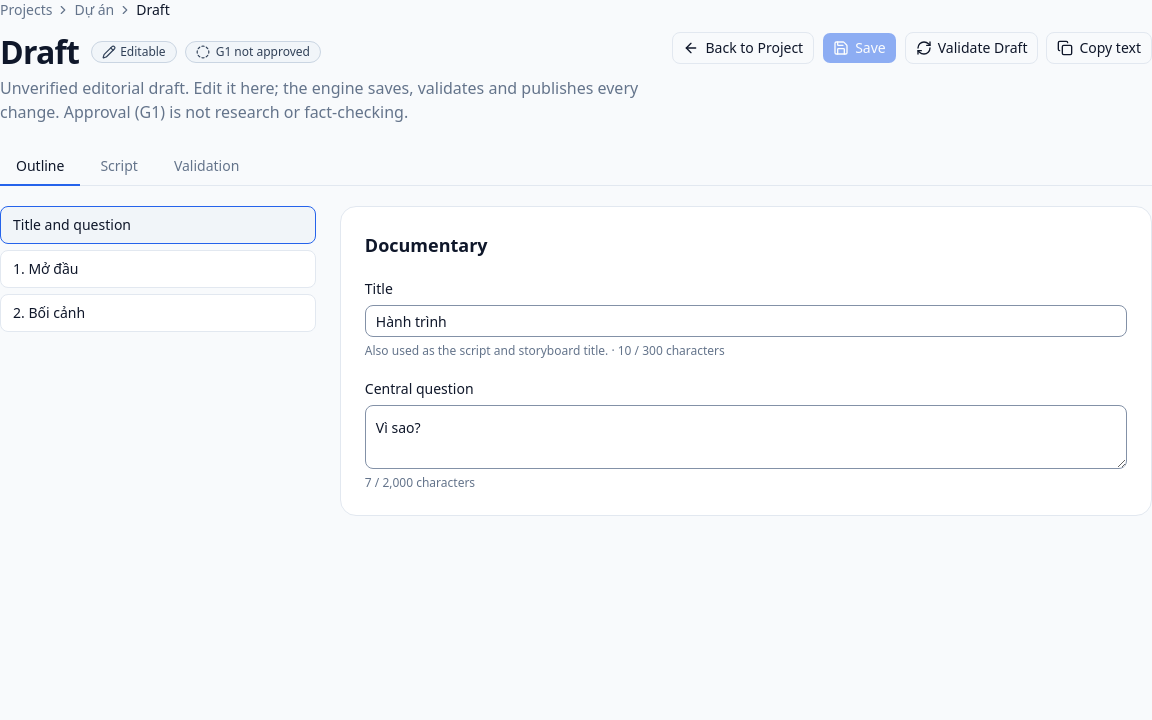
it: draft editor › discards only after confirmation
Type " x" into the field labelled "Title" at [746, 321], box x1=365 y1=305 x2=1127 y2=337
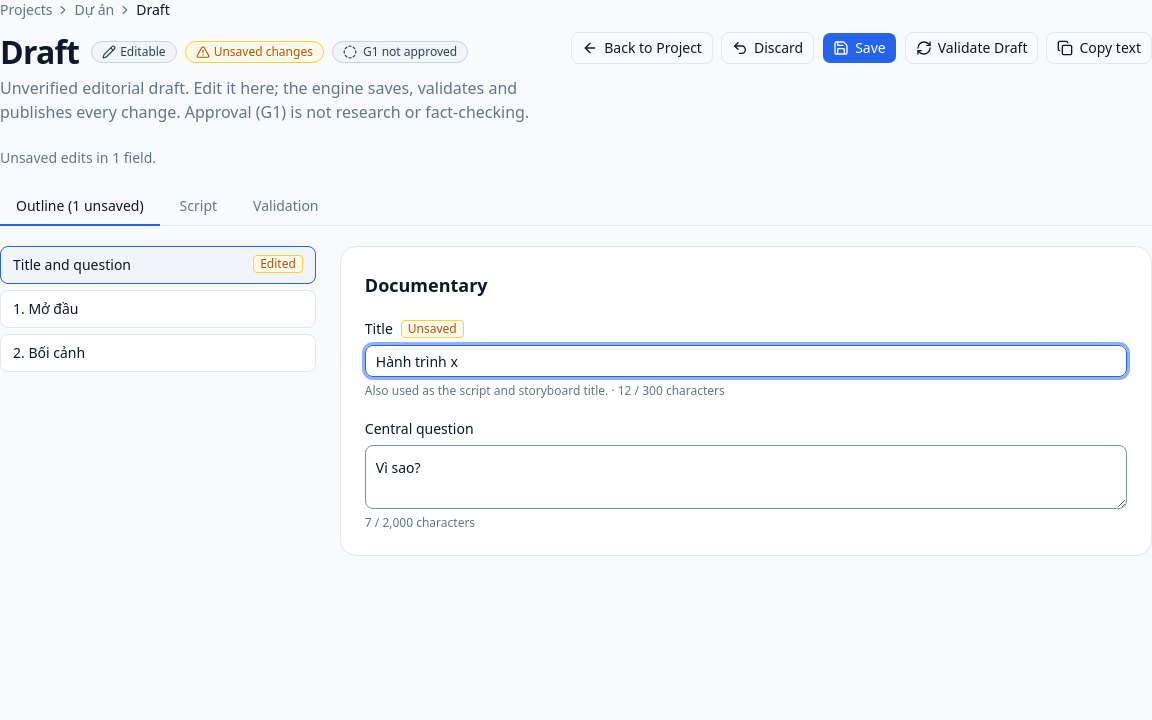
Click the button "Discard" at [768, 48], box x1=721 y1=32 x2=814 y2=64
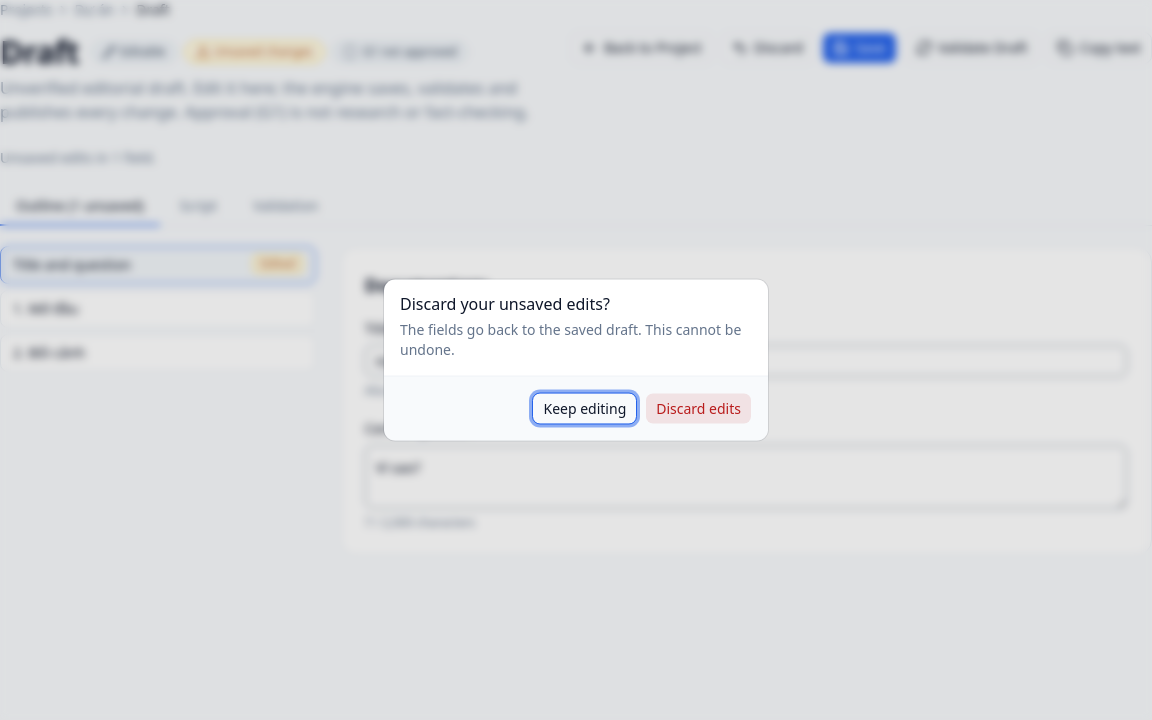
Click the button "Keep editing" at [585, 408], box x1=532 y1=392 x2=637 y2=424
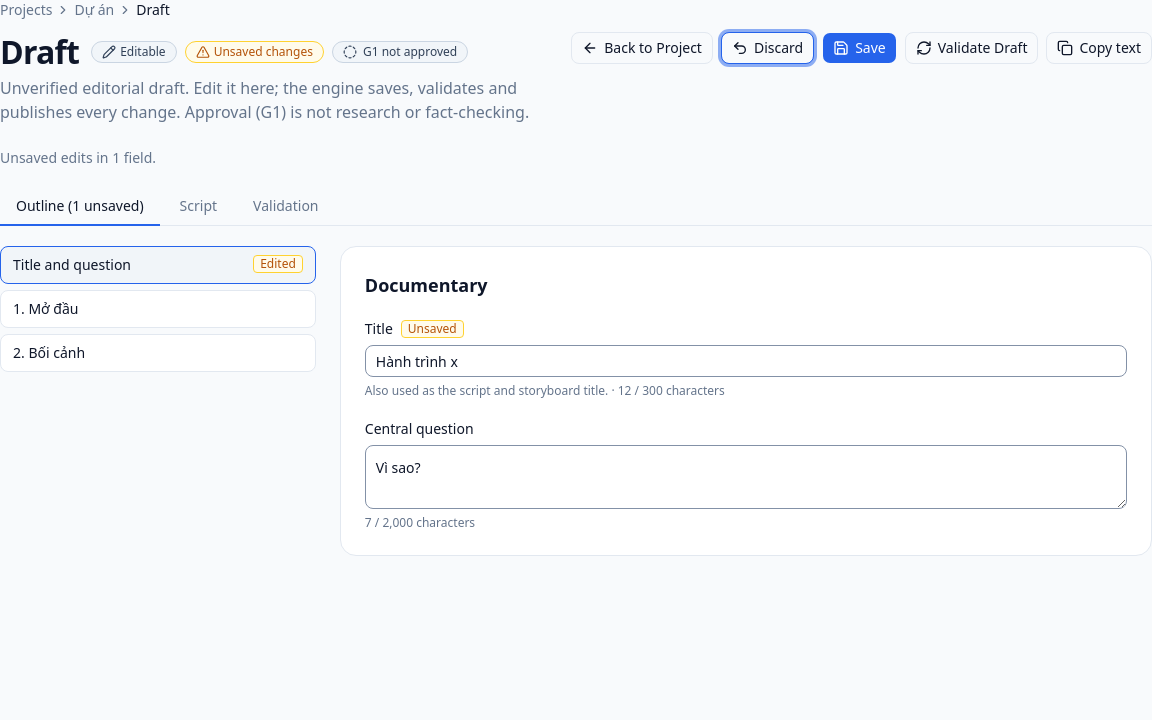
Now the field labelled "Title Unsaved" holds "Hành trình x", box x1=365 y1=345 x2=1127 y2=377
Click the button "Discard" at [768, 48], box x1=721 y1=32 x2=814 y2=64
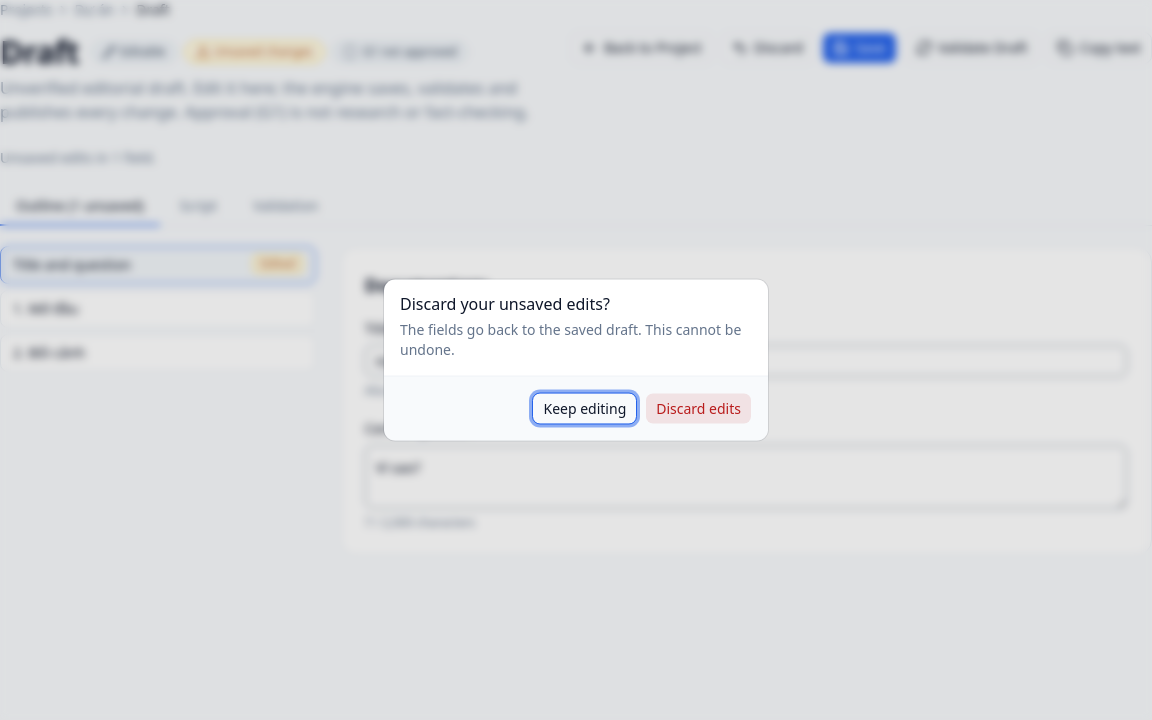
Click the button "Discard edits" at [699, 408], box x1=645 y1=392 x2=752 y2=424
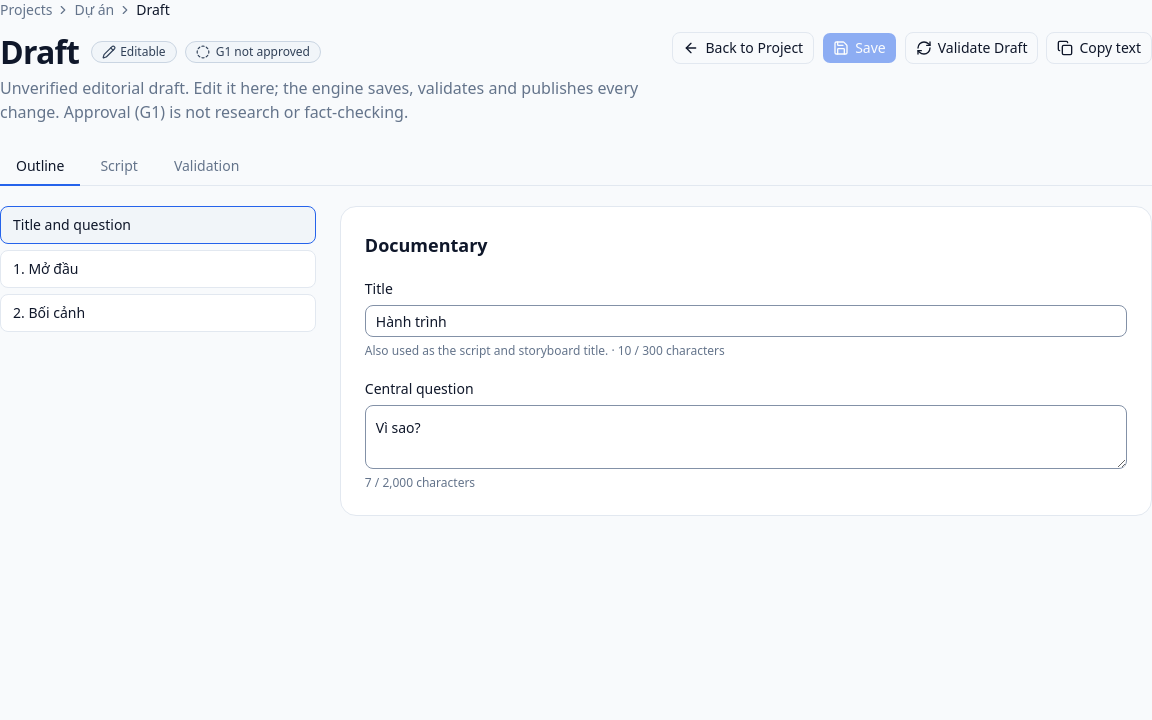
Now the field labelled "Title" holds "Hành trình", box x1=365 y1=305 x2=1127 y2=337
Now the text "Unsaved changes" is gone
